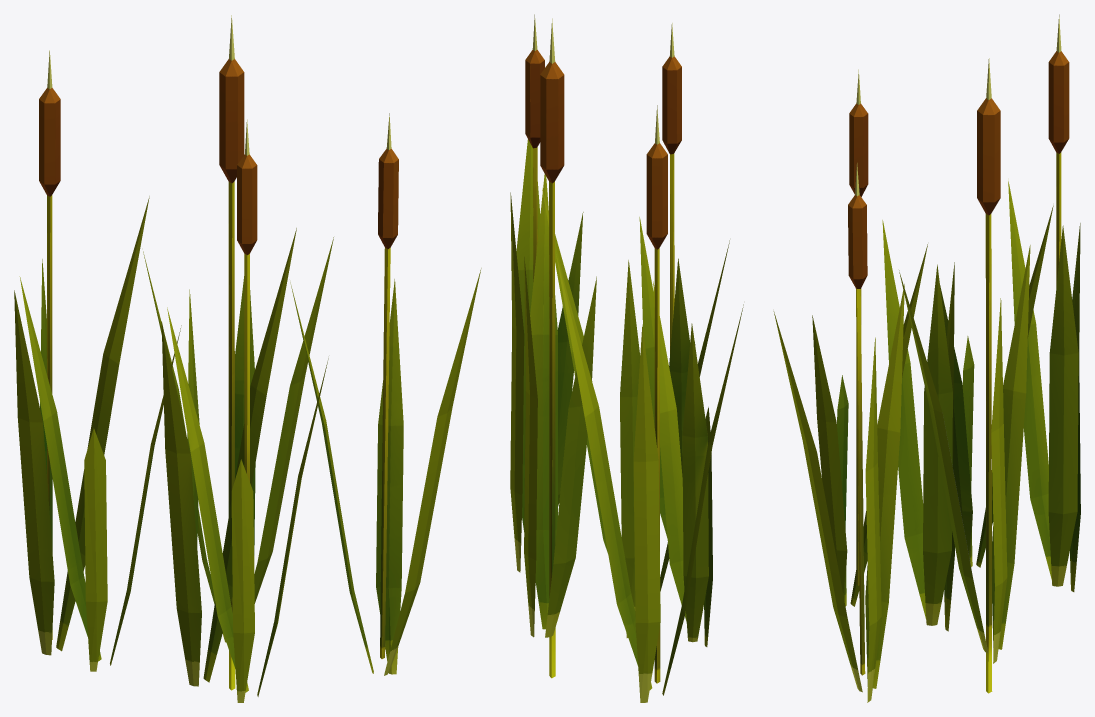
Rendered from planta3.obj.
3 views of the same model, side by side, from view 1: azimuth 30°, elevation 25°; view 2: azimuth 150°, elevation 25°; view 3: azimuth 270°, elevation 25° (orthographic). The views are drawn at different scales.
Visible parts, largest first — view 1: Mesh_Cube002; view 2: Mesh_Cube002; view 3: Mesh_Cube002.
Part boxes in pixels (x1,y1,x2,y2): Mesh_Cube002: [14, 15, 481, 702]; Mesh_Cube002: [510, 14, 743, 702]; Mesh_Cube002: [773, 14, 1080, 702].
Size of the model in its own units: 0.3106 by 0.5843 by 0.2563.
Materials: 2 (1 with a texture image).
